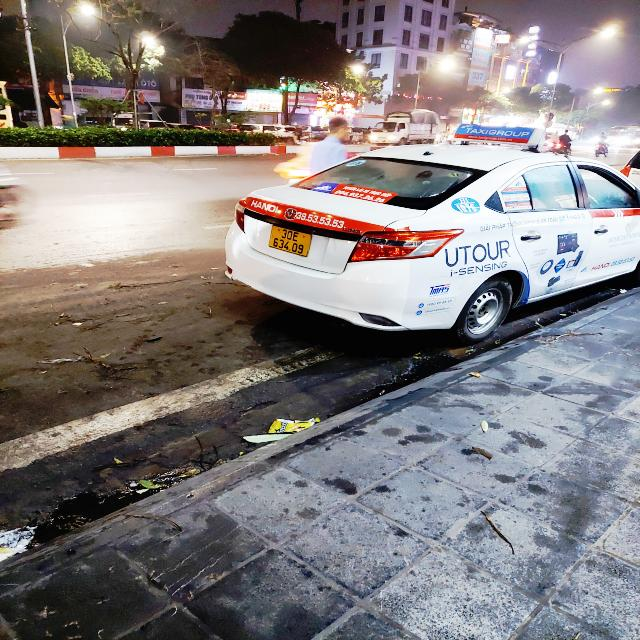license_plate: (269, 226, 314, 259)
